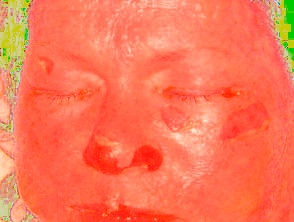SJS-TEN: (7, 0, 294, 222)
